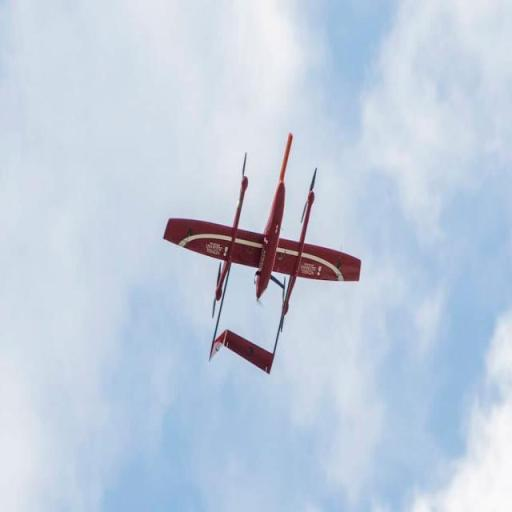uav: (152, 133, 368, 385)
